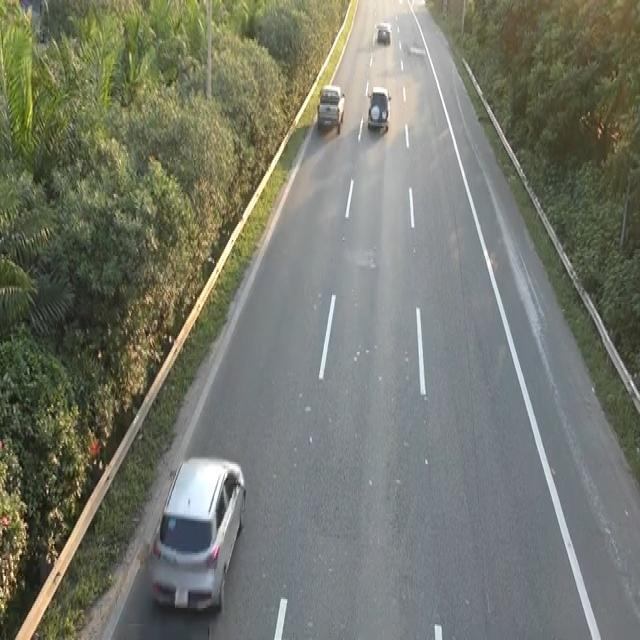car: (315, 80, 346, 133), (366, 84, 391, 134)
lorry: (147, 452, 249, 618)
